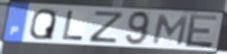9: (123, 10, 152, 48)
E: (183, 13, 220, 49)
L: (60, 10, 86, 42)
M: (150, 14, 190, 47)
Q: (29, 8, 58, 41)
Z: (88, 10, 127, 45)
